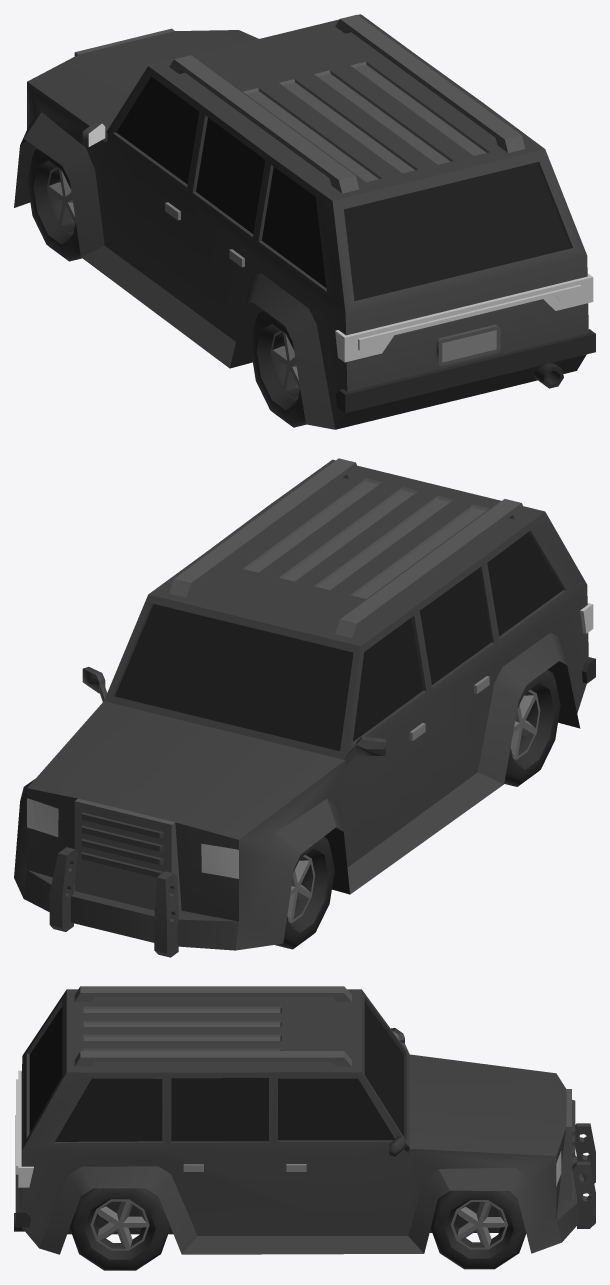
The model's file is armor.obj.
3 renders of one model, top to bottom at view 1: azimuth 30°, elevation 25°; view 2: azimuth 150°, elevation 25°; view 3: azimuth 270°, elevation 25°, orthographic. The views are drawn at different scales.
Parts seen in each view (by area): view 1: armor, wheels.048, wheels.049; view 2: armor, wheels.048, wheels.049; view 3: armor, wheels.011, wheels.010.
Part boxes in pixels (left/top/right/bottom): armor: left=14, top=14, right=595, bottom=429; wheels.048: left=250, top=310, right=306, bottom=427; wheels.049: left=27, top=149, right=81, bottom=261; armor: left=14, top=458, right=595, bottom=957; wheels.048: left=504, top=670, right=560, bottom=786; wheels.049: left=275, top=837, right=334, bottom=949; armor: left=14, top=986, right=595, bottom=1254; wheels.011: left=69, top=1188, right=170, bottom=1270; wheels.010: left=430, top=1190, right=526, bottom=1269.
Size of the model in its own units: 2.47 by 1.97 by 5.15.
4 materials, 3 textured.
